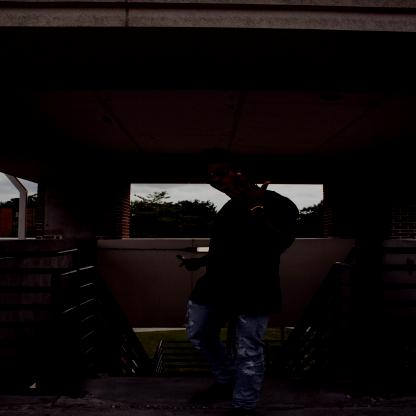dress: (195, 196, 305, 314)
